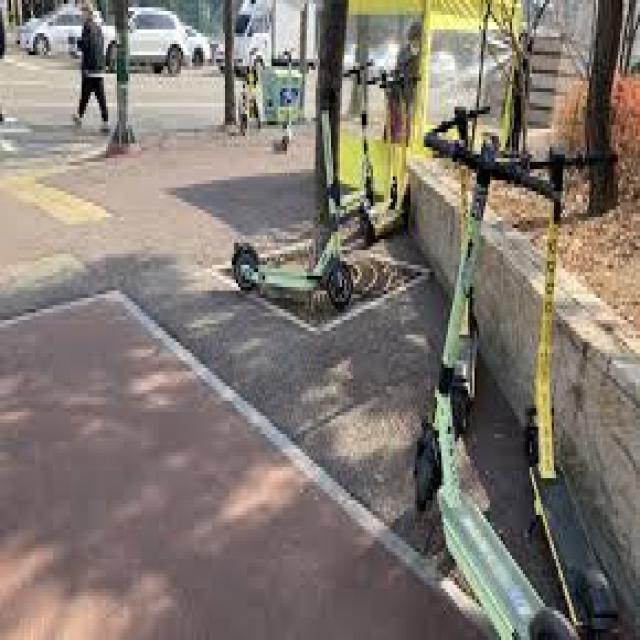bic: (0, 55, 446, 530), (1, 297, 505, 640)
kick-board: (415, 143, 580, 640), (525, 154, 636, 640)
